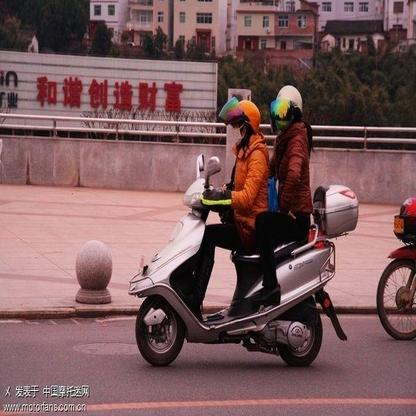target: (127, 84, 360, 368)
